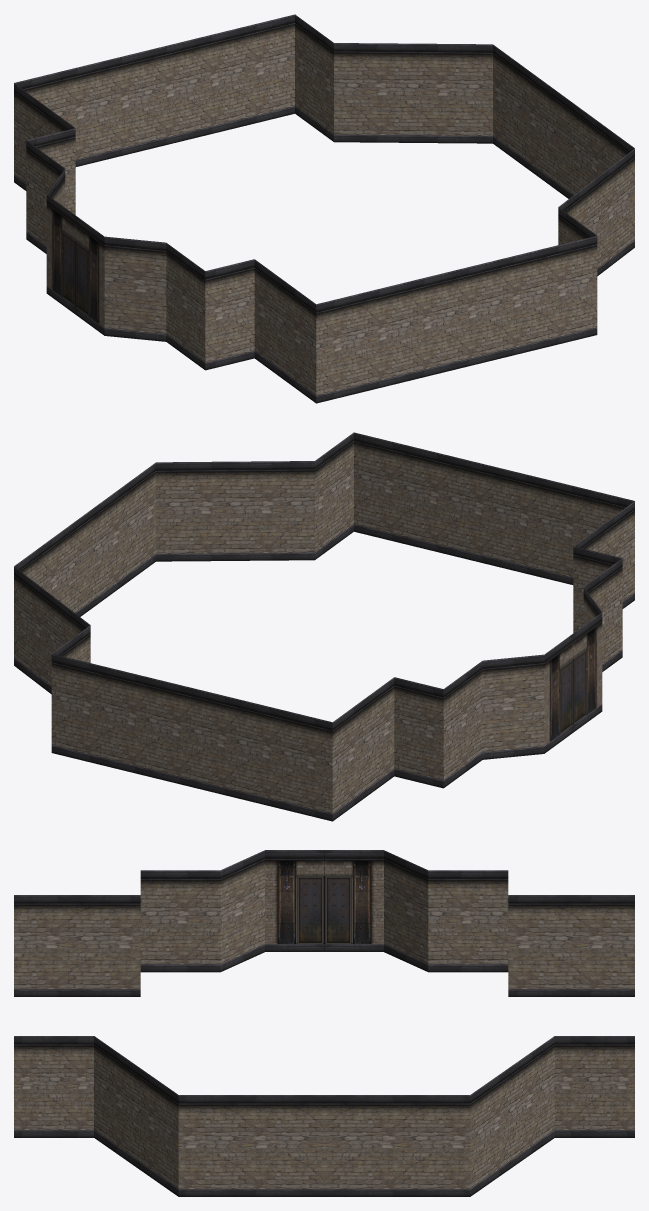
Rendered from map15_room01.FBX.
3 renders of one model, top to bottom at view 1: azimuth 30°, elevation 25°; view 2: azimuth 150°, elevation 25°; view 3: azimuth 270°, elevation 25°, orthographic. The views are drawn at different scales.
Parts seen in each view (by area): view 1: Line003; view 2: Line003; view 3: Line003.
Part boxes in pixels (bbox=[...]): Line003: bbox=[14, 14, 634, 403]; Line003: bbox=[14, 432, 634, 821]; Line003: bbox=[14, 850, 634, 1196].
Bounding box in the file's own units: 538 × 105 × 576.
Materials: 2 (2 with a texture image).
